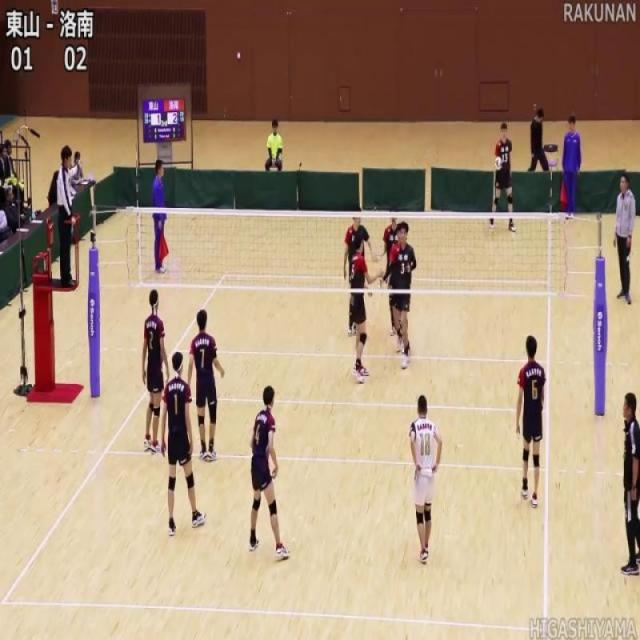volleyball: (494, 156, 502, 169)
